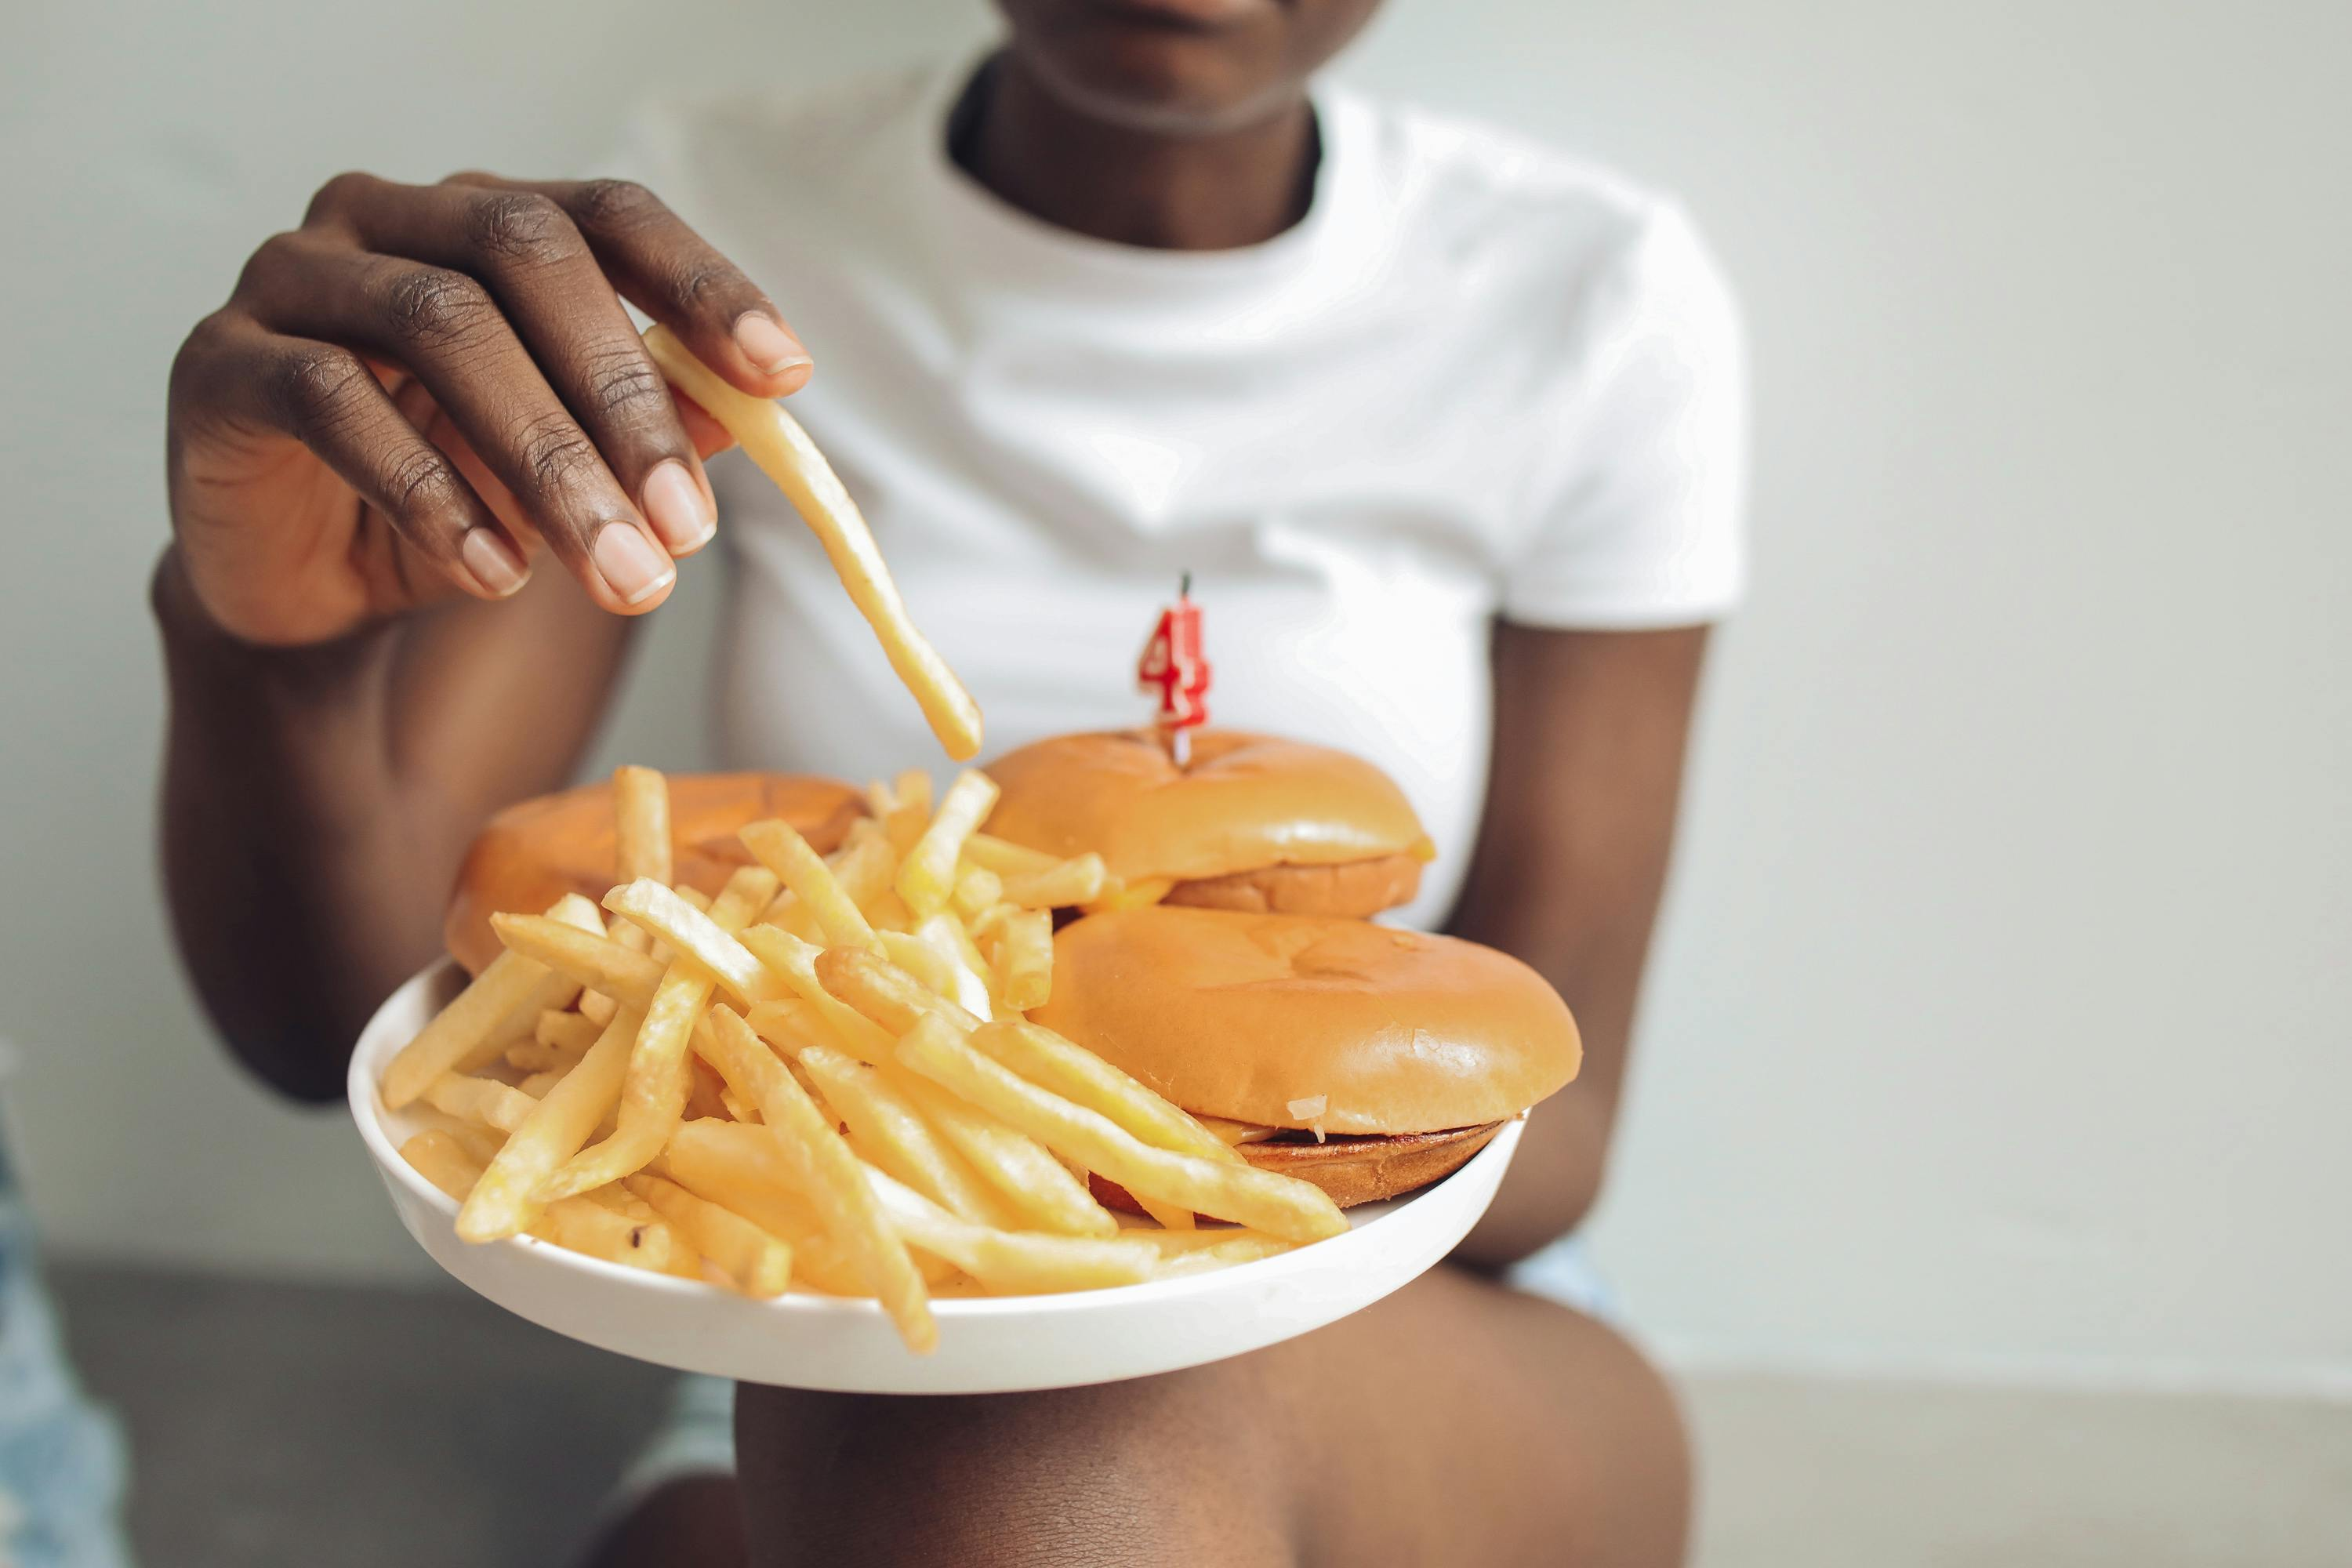burger: (1064, 917, 1591, 1228), (980, 707, 1437, 931), (425, 784, 896, 938)
chips: (401, 847, 1302, 1311)
